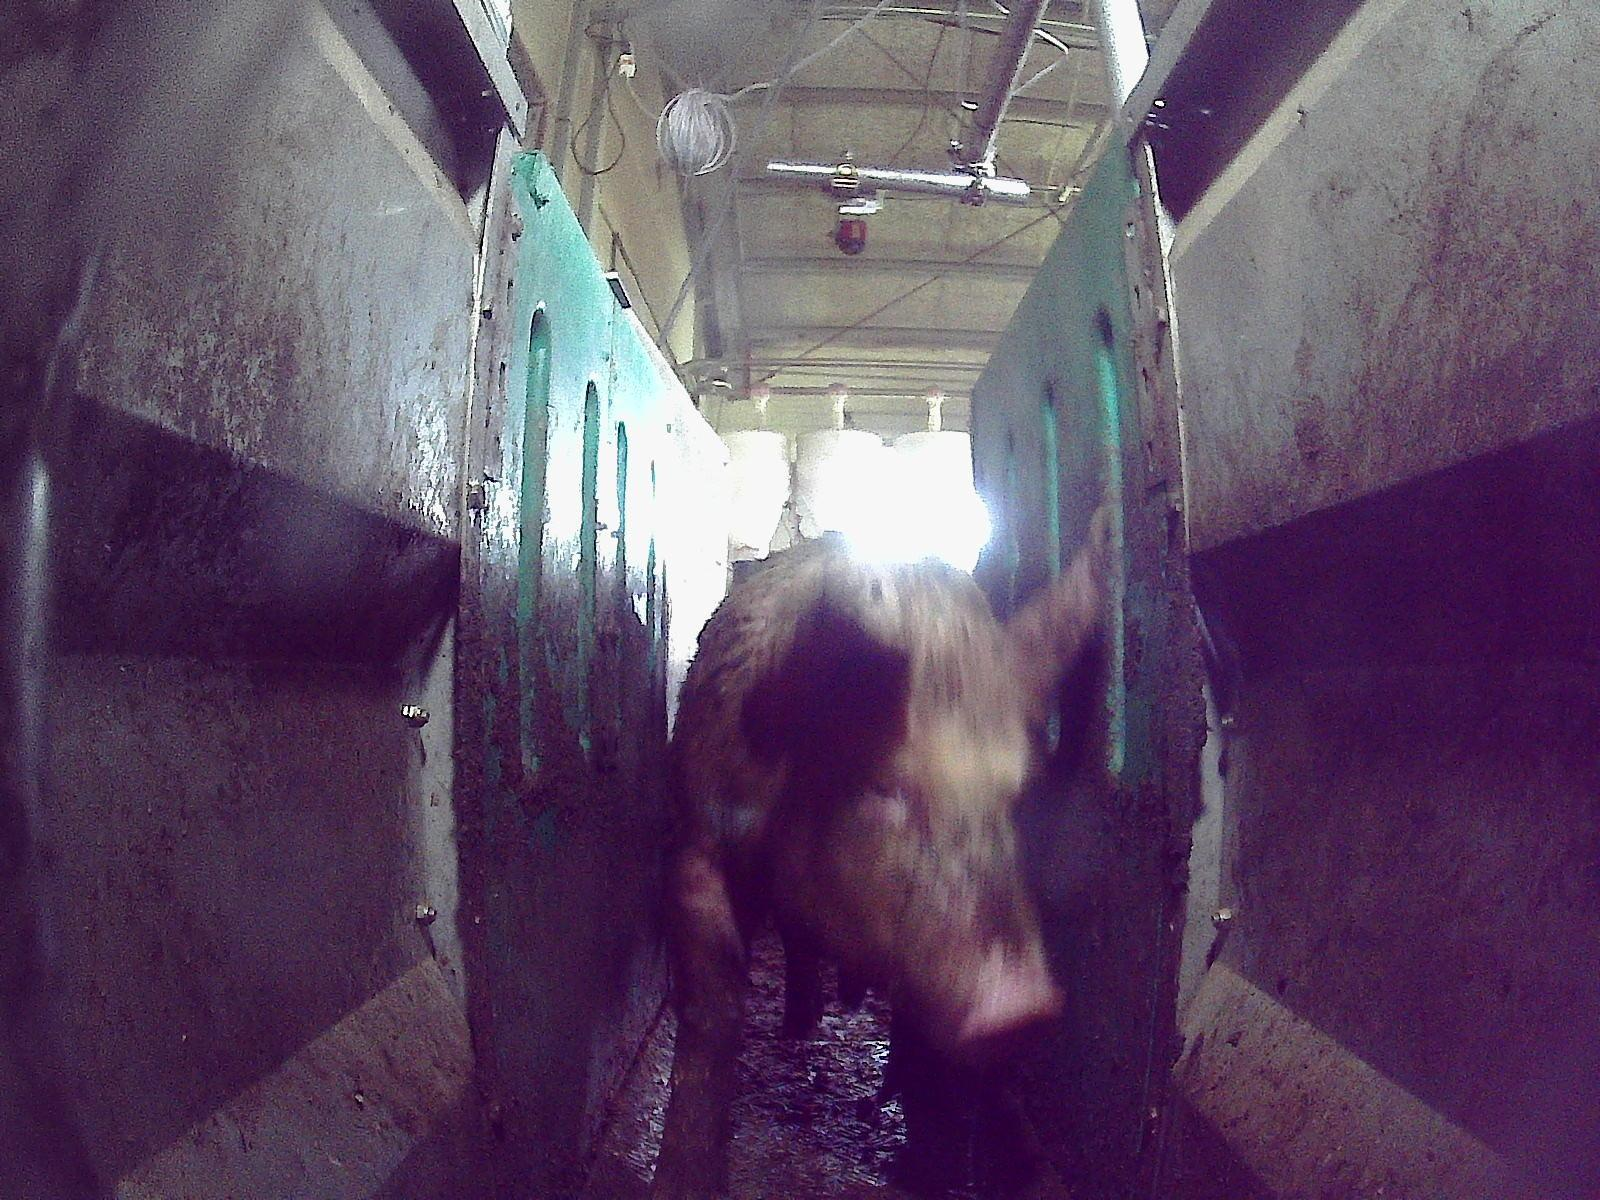Face: (795, 661, 1063, 1066)
